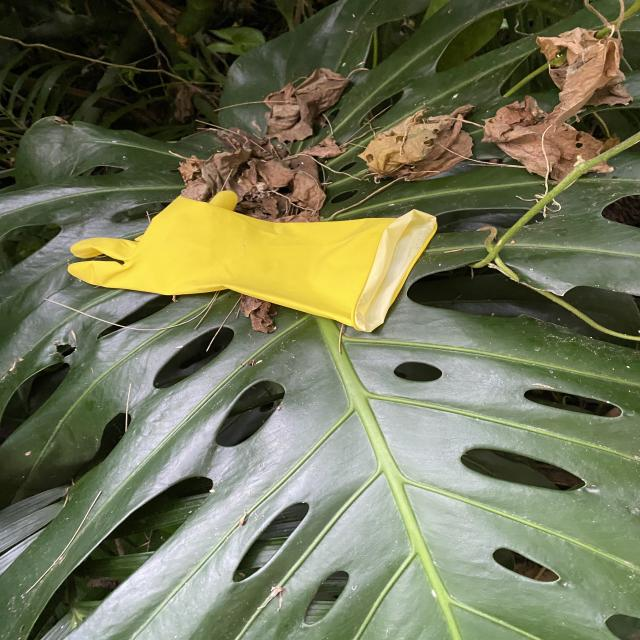glove: (67, 190, 437, 333)
